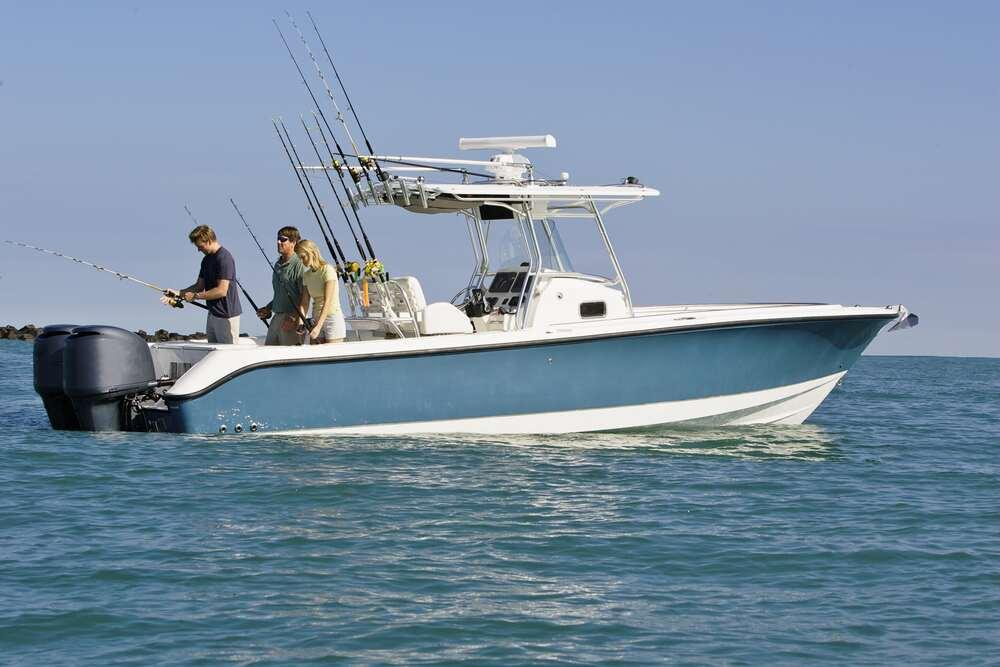fishing boat: (24, 5, 921, 442)
